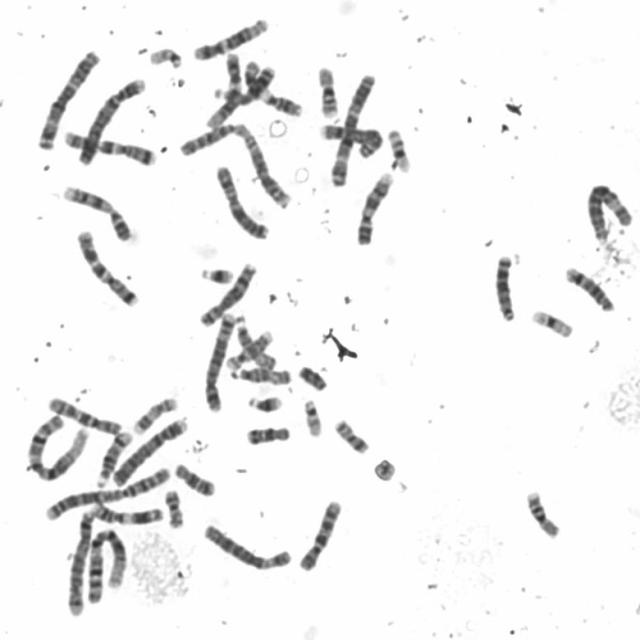A1: (23, 411, 89, 483), (84, 525, 129, 606)
A2: (176, 119, 296, 210), (41, 463, 172, 522)
A3: (33, 47, 102, 151), (327, 70, 378, 188)
B4: (74, 74, 148, 167), (109, 414, 190, 488)
B5: (200, 310, 237, 412), (64, 505, 96, 616)
C10: (294, 496, 344, 572), (45, 394, 123, 436)
C11: (240, 56, 304, 119), (89, 501, 165, 526)
C12: (190, 15, 270, 61), (205, 51, 242, 130)
C6: (200, 521, 293, 571), (582, 181, 634, 245)
C7: (73, 227, 140, 308), (60, 127, 157, 166)
C8: (196, 260, 259, 328), (317, 120, 384, 160)
C9: (61, 183, 133, 243), (352, 168, 395, 246)
D13: (211, 64, 276, 110), (491, 250, 517, 322)
D14: (561, 263, 616, 313), (92, 427, 134, 489)
D15: (232, 317, 278, 372), (229, 364, 294, 386)
E16: (523, 486, 562, 540), (314, 62, 341, 120)
E17: (129, 392, 180, 437), (224, 329, 275, 372)
E18: (172, 460, 217, 498), (243, 422, 292, 447)
F19: (530, 306, 574, 339), (385, 124, 413, 174)
F20: (330, 415, 370, 456), (161, 488, 185, 530)
G21: (243, 392, 284, 414), (198, 263, 235, 286)
G22: (299, 395, 325, 440), (145, 44, 184, 70)
X: (212, 163, 270, 240)
Y: (295, 363, 329, 392)
